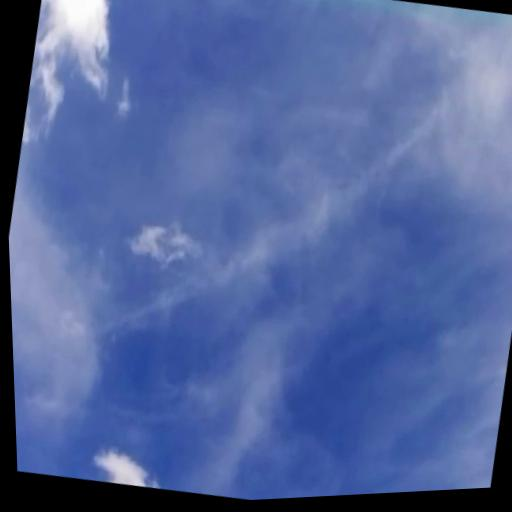drones: (509, 265, 512, 286)
